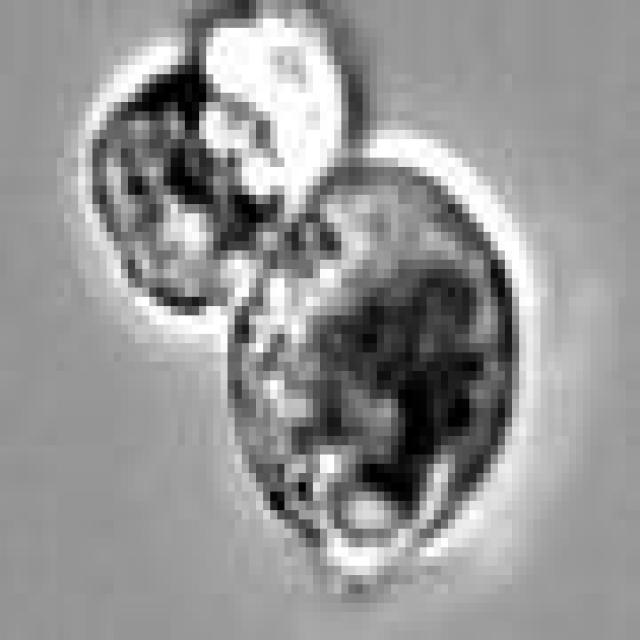Cancer Cell: (228, 158, 526, 538)
WBC: (100, 74, 278, 306), (199, 9, 349, 195)
